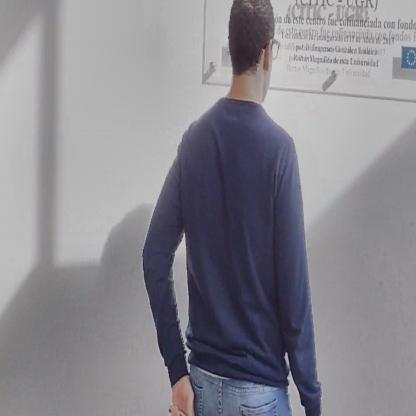knife: (164, 396, 230, 416)
